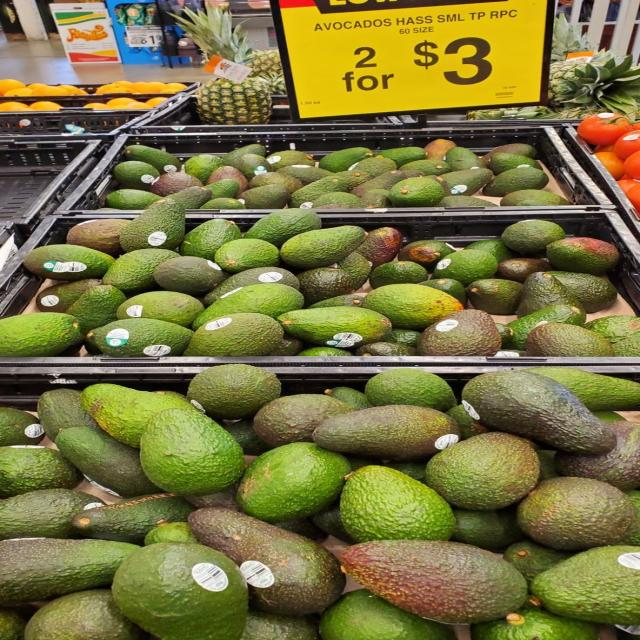avocado: (189, 509, 345, 616), (341, 541, 526, 623), (113, 543, 247, 639), (462, 371, 615, 454), (0, 539, 139, 605), (140, 408, 244, 494), (238, 442, 350, 521), (340, 466, 455, 542), (426, 433, 539, 510), (518, 478, 635, 550), (532, 546, 639, 624), (314, 405, 459, 461), (56, 428, 158, 497), (320, 589, 454, 639), (81, 384, 187, 446), (72, 494, 194, 543), (555, 421, 639, 490), (25, 590, 142, 639), (254, 394, 355, 446), (187, 364, 280, 419), (526, 367, 639, 411), (0, 489, 97, 539), (278, 307, 391, 348), (363, 284, 463, 329), (472, 605, 599, 639), (184, 313, 283, 356), (87, 318, 193, 357), (0, 446, 79, 498), (418, 310, 501, 356), (280, 226, 366, 269), (507, 304, 586, 350), (0, 313, 82, 357), (205, 267, 299, 304), (120, 199, 185, 252), (103, 249, 178, 294), (38, 389, 100, 441), (24, 245, 114, 280), (512, 272, 581, 317), (452, 508, 524, 551), (117, 291, 203, 327), (526, 323, 613, 357), (244, 209, 321, 247), (503, 540, 572, 582), (67, 285, 126, 334), (154, 256, 224, 296), (547, 238, 619, 275), (180, 219, 240, 260), (434, 250, 498, 286), (214, 239, 279, 273), (241, 611, 319, 639), (36, 279, 101, 312), (67, 219, 128, 254), (501, 220, 565, 253), (298, 268, 355, 305), (467, 279, 523, 315), (483, 166, 548, 197), (354, 227, 402, 268), (291, 174, 347, 207), (352, 170, 419, 197), (313, 501, 354, 544), (0, 407, 44, 446), (389, 178, 448, 207), (223, 420, 271, 455), (436, 168, 493, 197), (125, 144, 181, 172), (370, 261, 427, 288), (585, 316, 639, 343), (184, 485, 239, 511), (447, 405, 487, 439), (150, 172, 202, 198), (113, 161, 159, 190), (496, 258, 551, 282), (419, 277, 466, 305), (319, 148, 373, 172), (337, 252, 371, 289), (145, 522, 197, 546), (272, 519, 326, 542), (500, 189, 570, 206), (489, 152, 540, 175), (242, 185, 290, 209), (250, 172, 303, 193), (465, 240, 515, 262), (278, 165, 332, 185), (184, 155, 224, 182), (106, 189, 159, 209), (167, 186, 212, 209), (325, 387, 372, 409), (484, 143, 537, 161), (376, 147, 426, 166), (354, 156, 397, 178), (267, 150, 314, 170), (444, 147, 483, 171), (622, 490, 639, 545), (221, 144, 266, 164), (400, 159, 452, 176), (355, 342, 417, 356), (334, 170, 373, 191), (385, 462, 424, 483), (0, 608, 26, 639), (205, 179, 239, 201), (313, 192, 359, 208), (308, 295, 363, 308), (268, 336, 303, 356), (536, 450, 559, 480), (440, 196, 499, 207), (613, 333, 640, 357), (425, 139, 456, 159), (386, 329, 420, 347), (200, 198, 246, 210), (297, 347, 352, 356), (496, 323, 513, 346), (594, 411, 626, 422)
